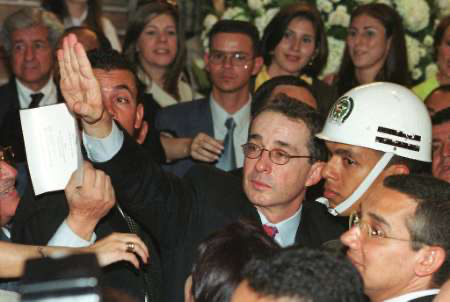Face: (339, 184, 414, 291), (244, 117, 312, 208), (318, 134, 386, 216), (86, 68, 144, 144), (204, 34, 258, 92), (271, 18, 316, 74), (7, 26, 53, 79), (139, 15, 180, 71), (346, 14, 388, 68), (429, 117, 449, 185)
